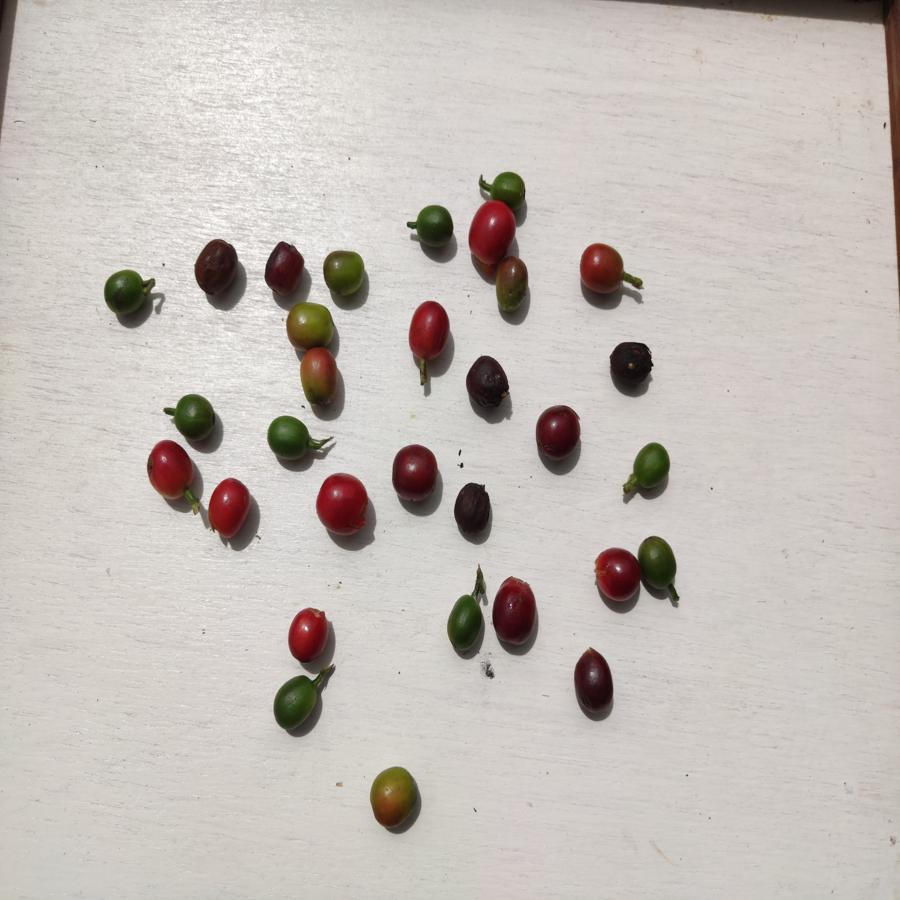Inmaduro: (99, 267, 156, 321), (273, 673, 322, 730), (625, 440, 673, 497), (639, 536, 680, 601), (262, 414, 313, 463), (445, 594, 485, 652), (169, 394, 218, 441), (413, 202, 455, 248), (487, 170, 530, 203)
Maduro: (314, 471, 372, 542), (145, 439, 197, 505), (577, 238, 631, 298), (587, 546, 641, 605), (206, 479, 256, 538), (405, 301, 453, 360), (469, 202, 518, 258), (287, 605, 332, 665)
Pinton: (368, 765, 426, 832), (297, 348, 341, 403), (321, 251, 371, 298), (287, 302, 337, 349), (494, 261, 530, 317)
Sobremaduro: (489, 573, 539, 649), (454, 480, 502, 546), (569, 649, 617, 715), (532, 402, 584, 462), (389, 443, 439, 503), (464, 354, 511, 416), (606, 340, 656, 391), (264, 241, 307, 296), (194, 243, 235, 296)
